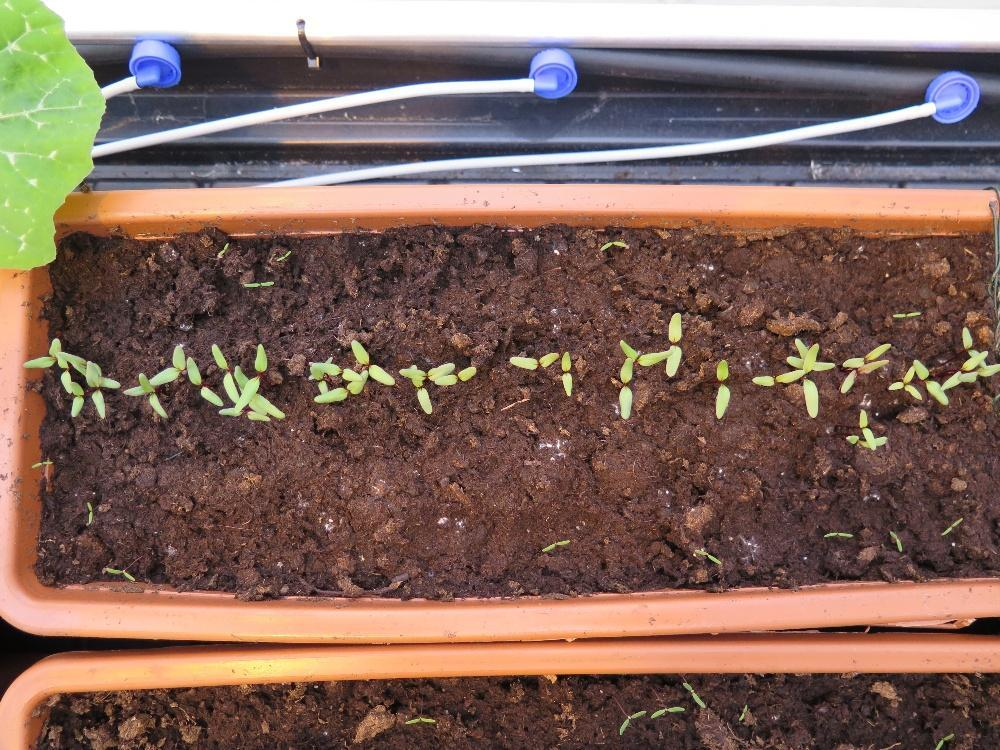crop: (506, 349, 559, 371), (714, 357, 730, 420), (560, 348, 572, 396)
weed: (617, 707, 646, 736), (681, 680, 705, 707), (648, 703, 684, 719), (104, 565, 135, 582), (693, 547, 721, 565), (939, 515, 963, 535), (540, 537, 570, 552), (402, 712, 436, 725), (242, 276, 275, 289), (598, 239, 628, 252), (887, 529, 902, 551), (28, 458, 53, 469), (822, 529, 853, 537), (890, 309, 920, 317), (736, 701, 747, 722), (274, 248, 290, 261), (84, 500, 92, 523), (217, 240, 228, 256)
